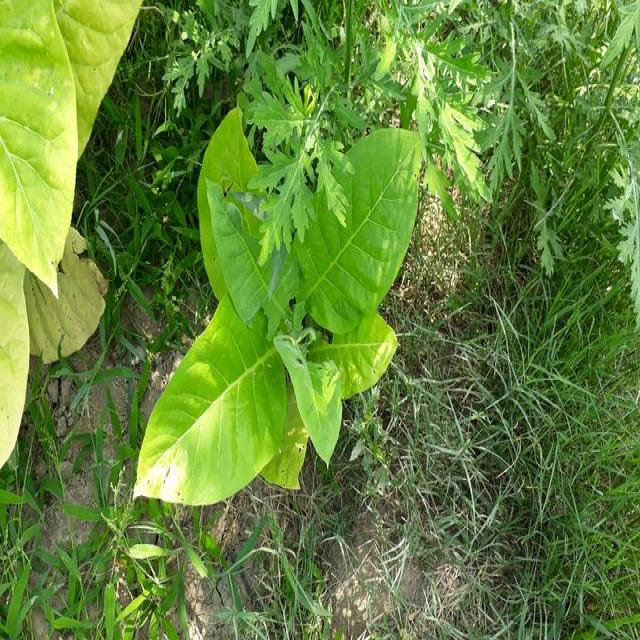crop: (127, 113, 431, 513), (0, 4, 120, 278), (0, 250, 24, 462)
